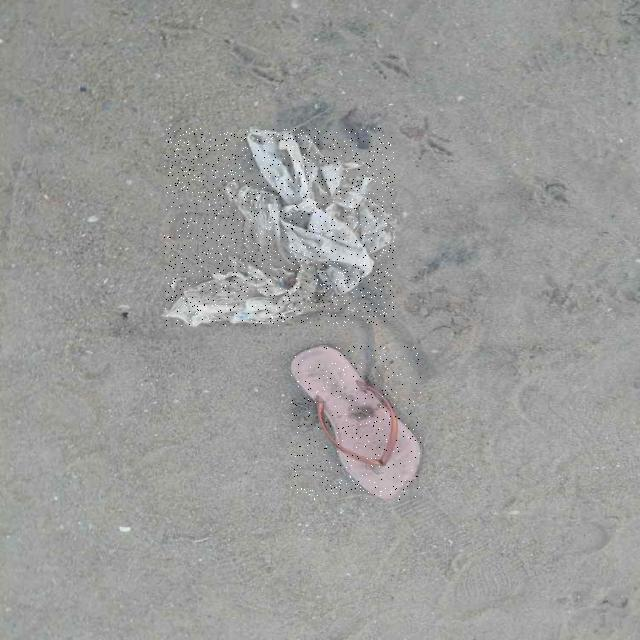other: (164, 128, 395, 325), (292, 346, 421, 500)
